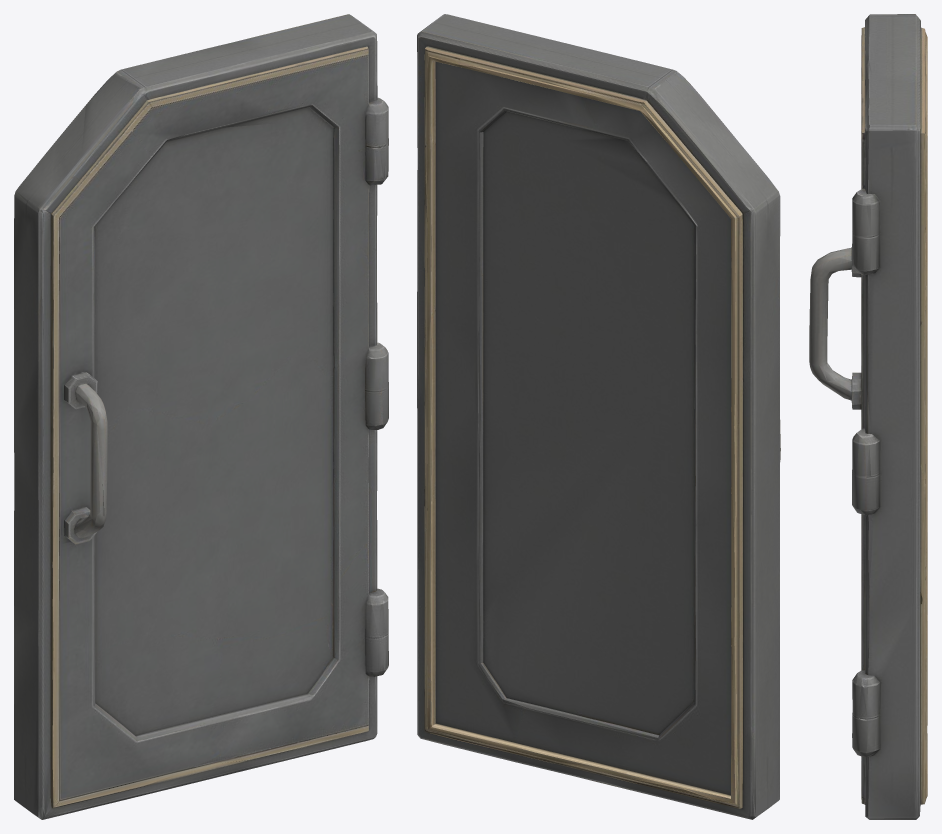
File: imperial_power_plant__entrance_door_leaf.glb
3 renders of one model, left to right at view 1: azimuth 30°, elevation 25°; view 2: azimuth 150°, elevation 25°; view 3: azimuth 270°, elevation 25°, orthographic.
Parts seen in each view (by area): view 1: mesh_node; view 2: mesh_node; view 3: mesh_node.
Boxes of the visible parts, x1=… form: mesh_node: x1=14, y1=14, x2=388, y2=819; mesh_node: x1=417, y1=14, x2=780, y2=819; mesh_node: x1=809, y1=14, x2=927, y2=819.
Size of the model in its own units: 1.6 by 3.11 by 0.4811.
1 material, 1 textured.
